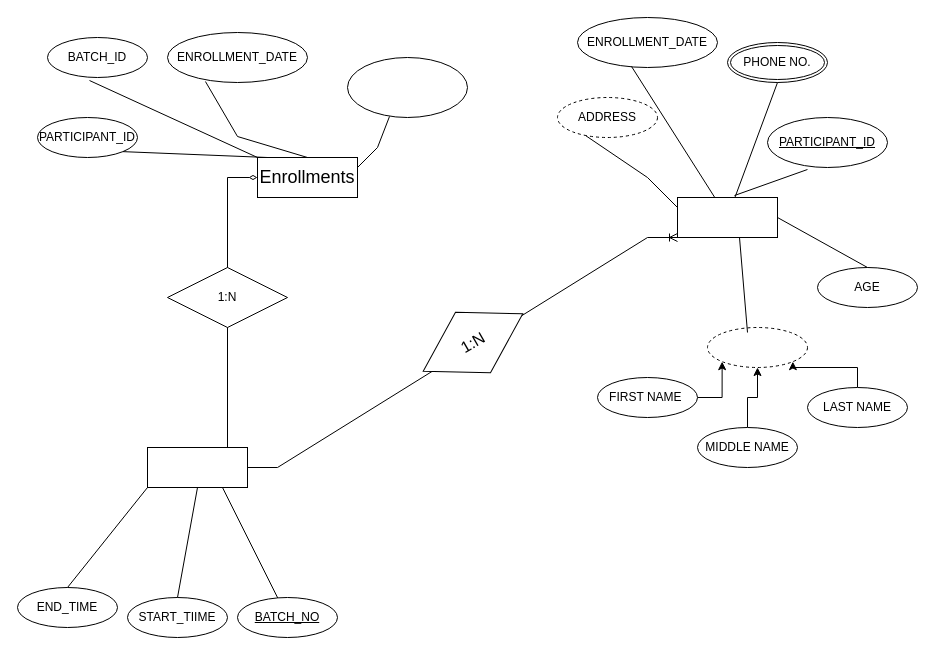
The diagram is 935 pixels wide and 655 high, and some of its shapes have lost their labels. The centre of each missing label's shape, as x and y in pixels:
"Batches" goes at point 197,467.
"ENROLLMENT_ID" goes at point 407,87.
"NAME" goes at point 757,347.
"Participants" goes at point 727,217.
